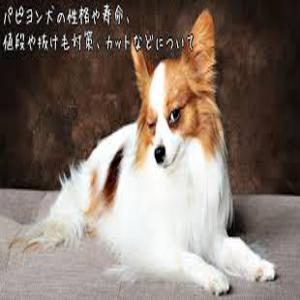yell: (0, 9, 275, 294)
